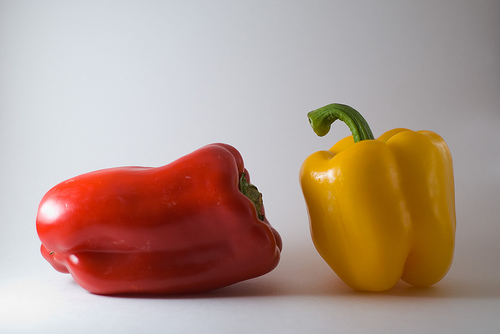capsicum: (34, 144, 283, 299), (298, 103, 457, 292)
